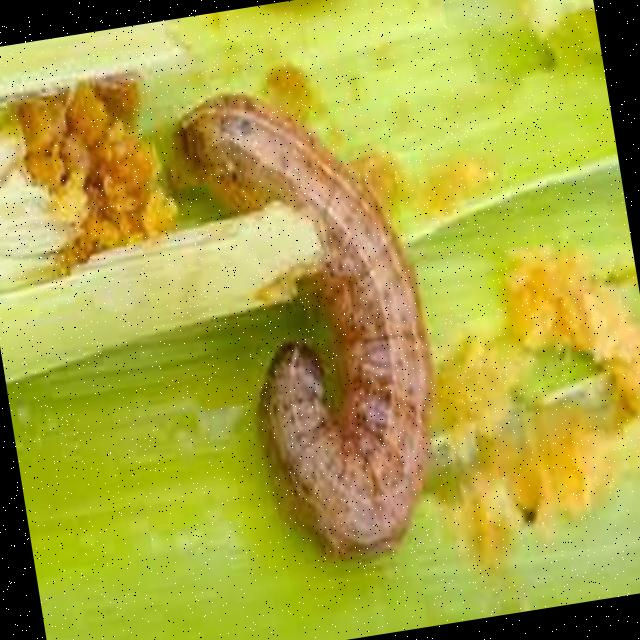worm: (166, 65, 466, 581)
